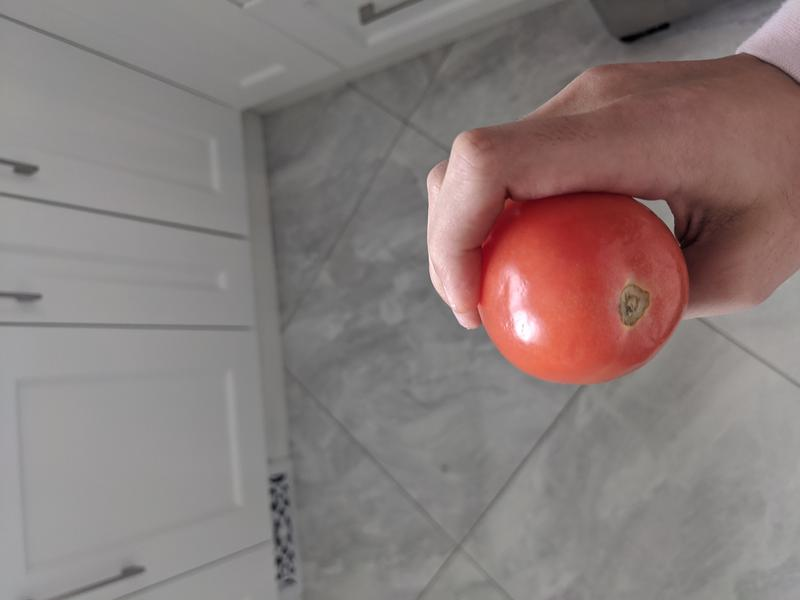tomato: (479, 193, 690, 385)
